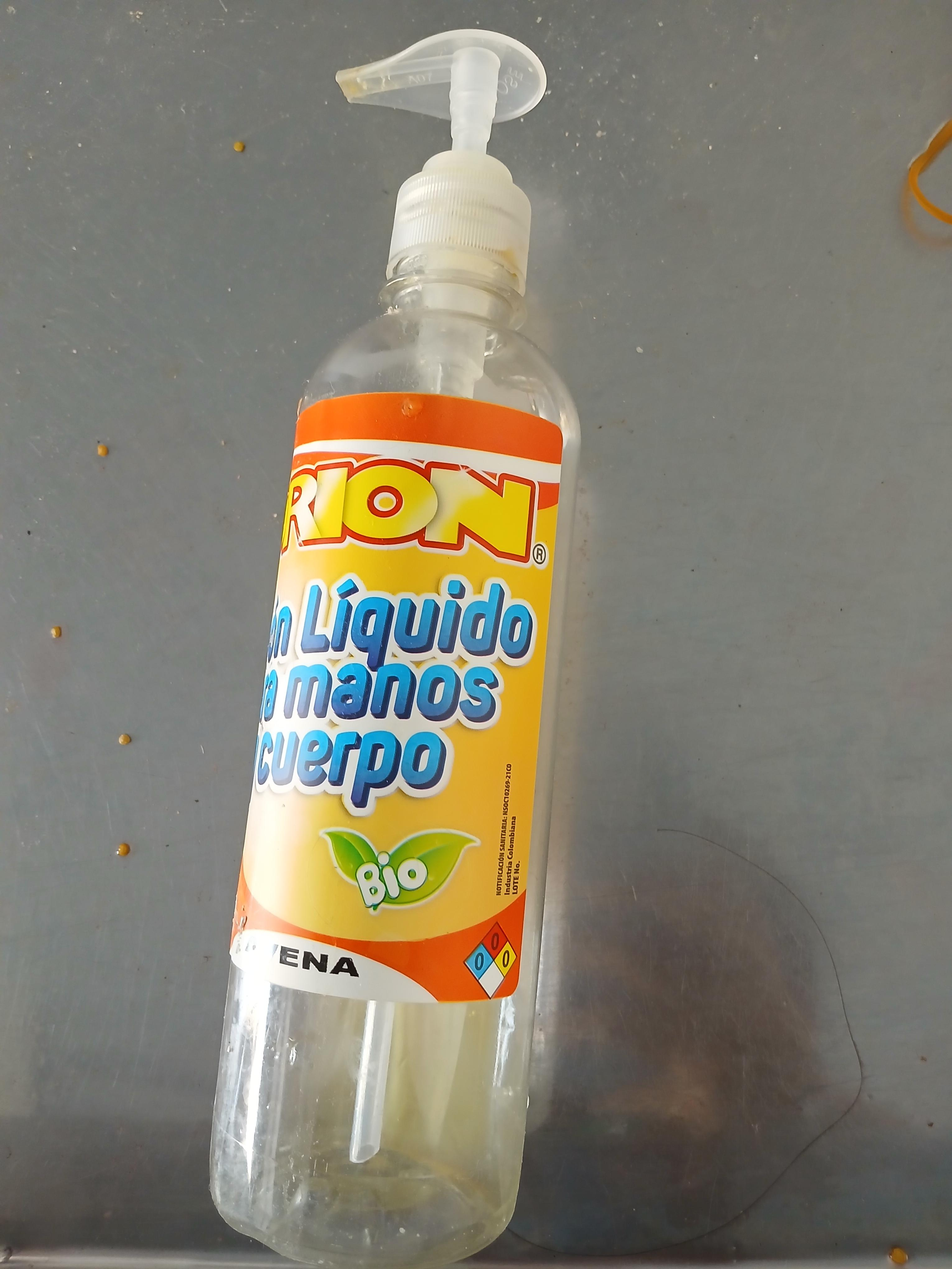Plastico: (205, 28, 582, 1269)
